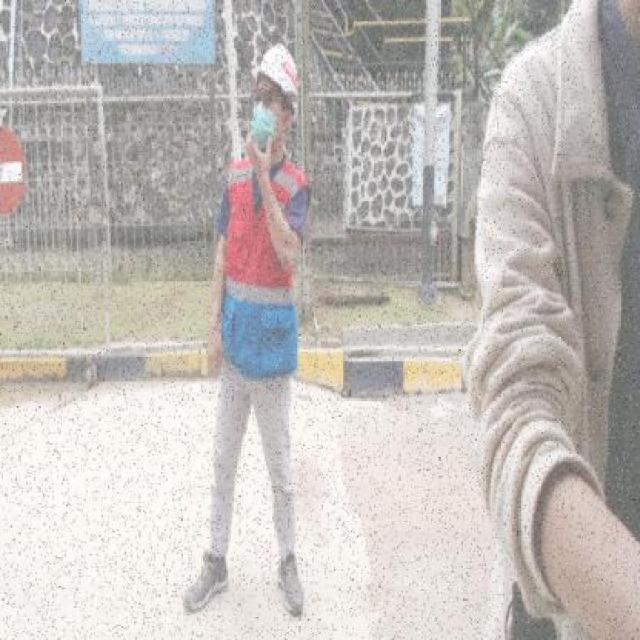Boots: (181, 542, 230, 616), (273, 552, 310, 620)
Helmet: (254, 39, 300, 112)
Mask: (249, 104, 285, 148)
